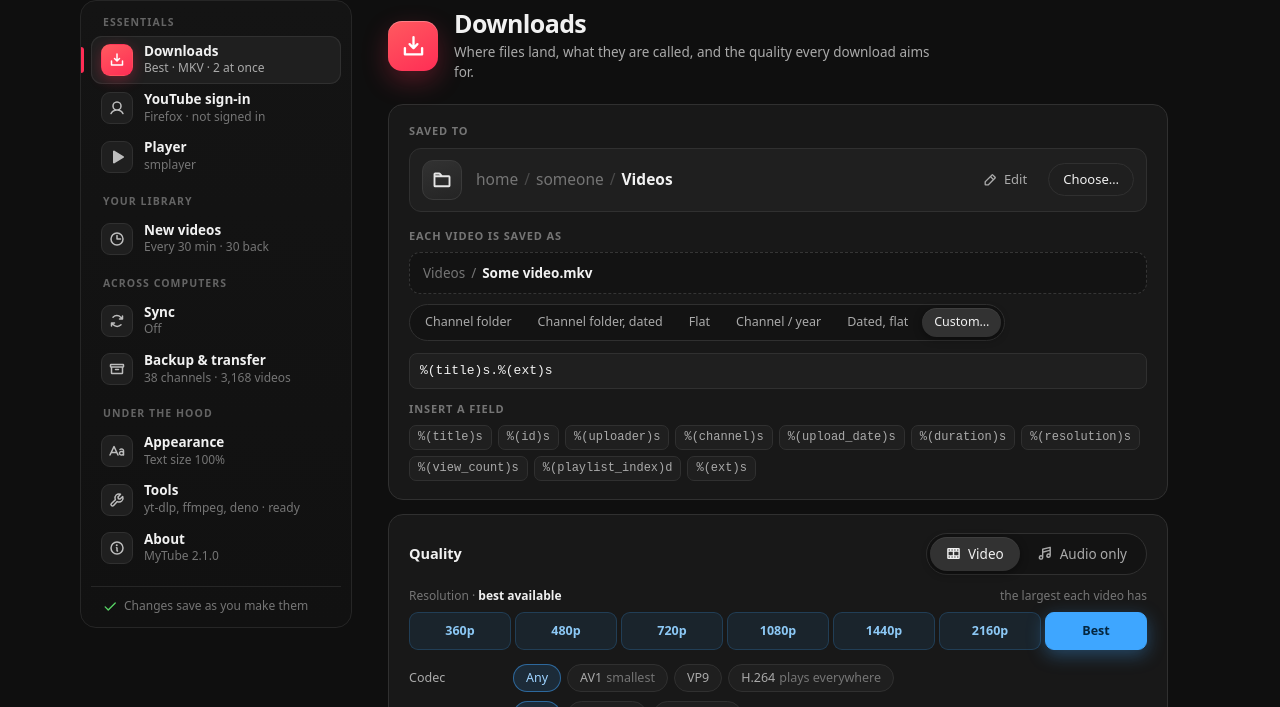
Scenario: Each video is saved as › follows the template as it is typed
Expected: the navigation bar named "Settings sections" is shown, [80,0,352,628]
Replace the text in the field named "Custom template" with "%(uploader)s/%(id)s.%(ext)s" at (778, 371), box [409,353,1147,388]
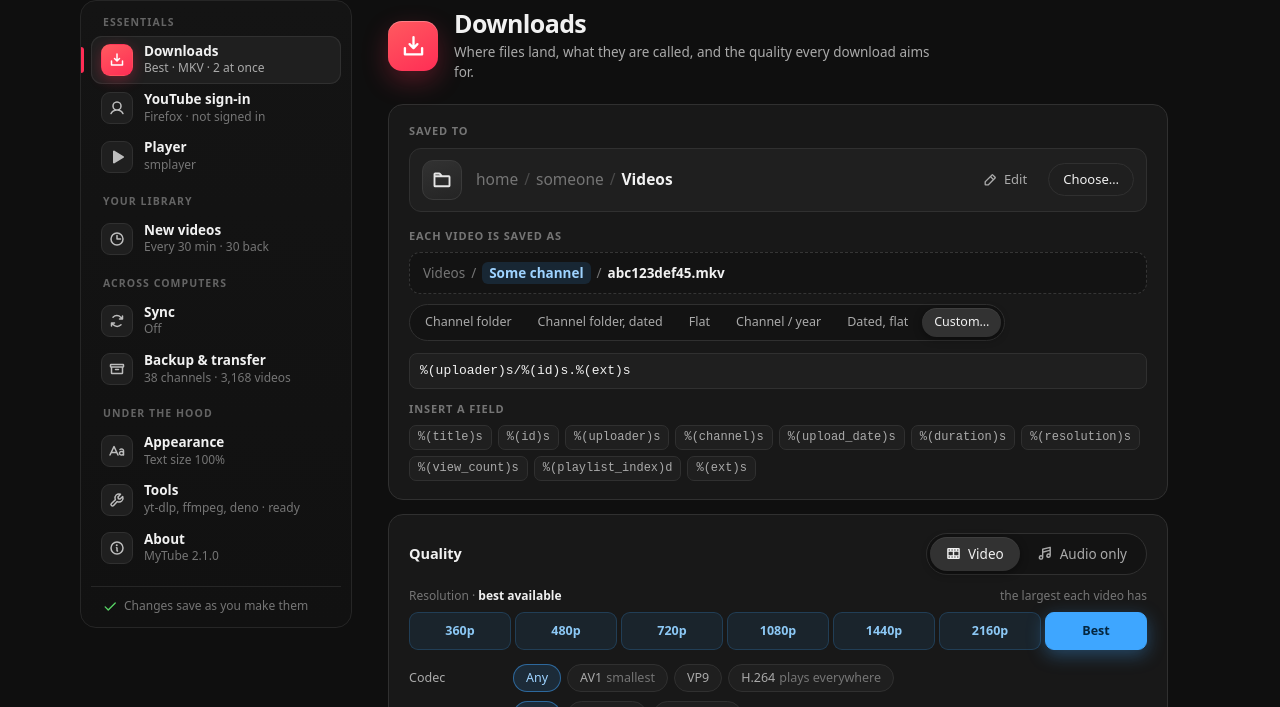
Result: the element with class "st-dl-preview" reads "Videos/Some channel/abc123def45.mkv" at [409,252,1147,294]
